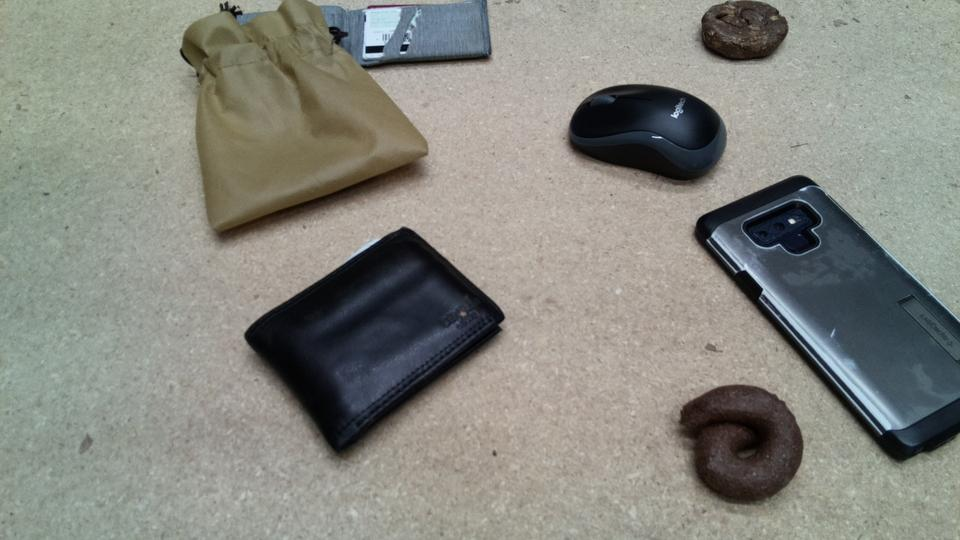poop: (678, 382, 804, 503), (699, 1, 790, 63)
